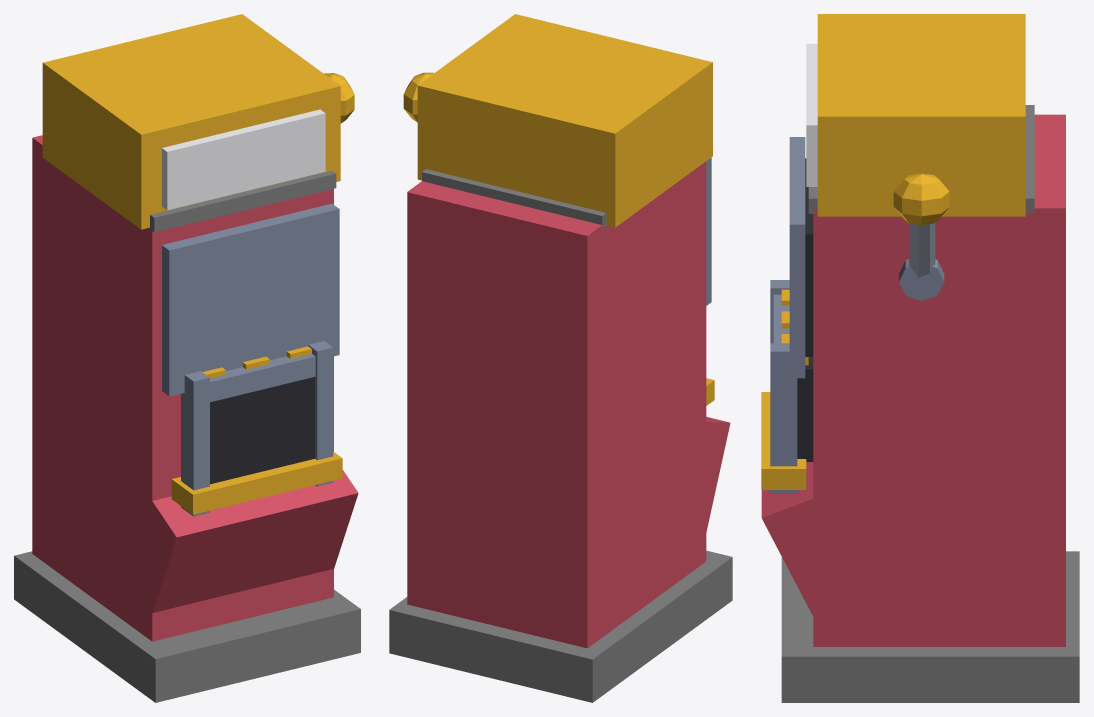
Rendered from slot_machine.glb.
3 renders of one model, left to right at view 1: azimuth 30°, elevation 25°; view 2: azimuth 150°, elevation 25°; view 3: azimuth 270°, elevation 25°, orthographic. The views are drawn at different scales.
Visible parts, largest first — view 1: slot_machine; view 2: slot_machine; view 3: slot_machine.
Part boxes in pixels (x1=…): slot_machine: x1=14, y1=14, x2=360, y2=702; slot_machine: x1=389, y1=14, x2=732, y2=702; slot_machine: x1=761, y1=14, x2=1079, y2=702.
Bounding box in the file's own units: 0.75 × 1.52 × 0.75.
